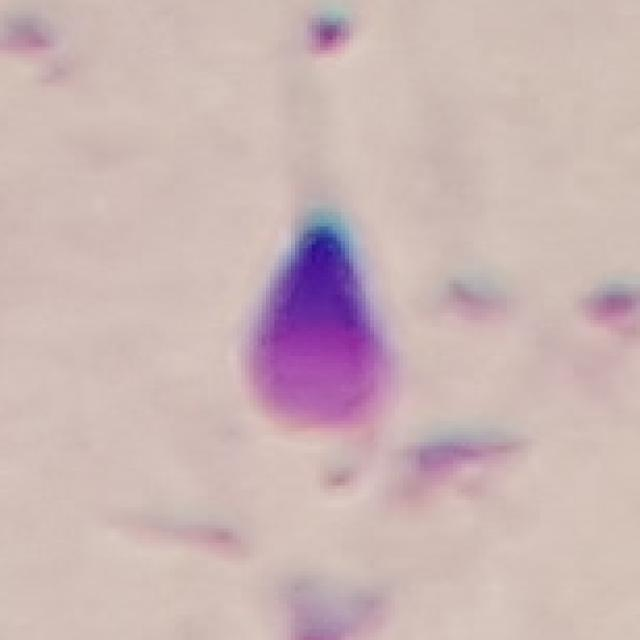normal sperm: (242, 132, 396, 436)
